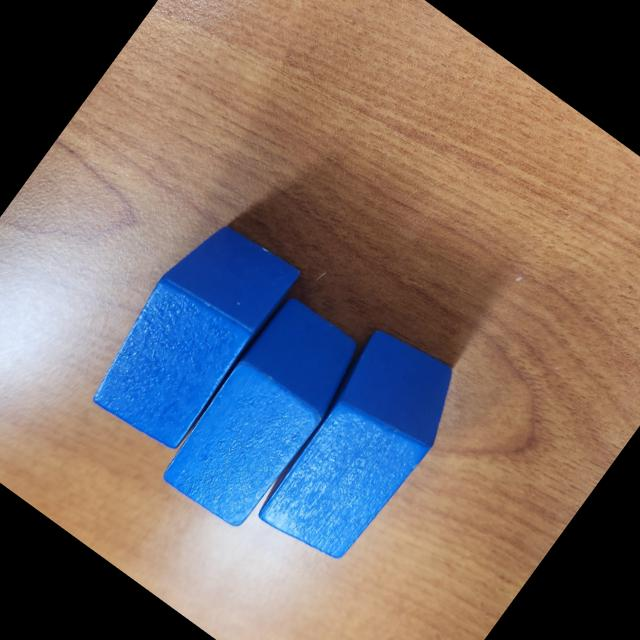blue: (244, 316, 478, 577), (75, 206, 307, 463), (154, 292, 372, 536)
